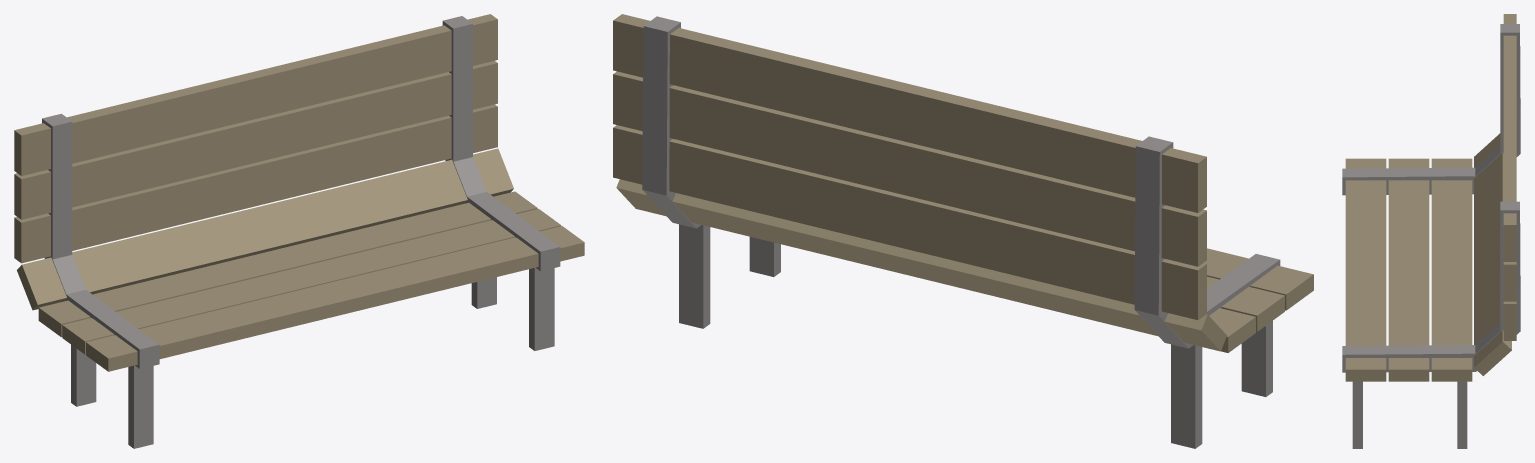
File: parkBench.fbx
The picture shows the model from 3 angles, left to right: view 1: azimuth 30°, elevation 25°; view 2: azimuth 150°, elevation 25°; view 3: azimuth 270°, elevation 25°; orthographic projection. The views are drawn at different scales.
Visible parts, largest first — view 1: chairSeat08, chairSeat04, chairSeat02, chairSeat03, chairSeat07, chairSeat05, chairSeat06, chairSeat013, chairSeat017, chairSeat014, chairSeat011, chairSeat015 (+1 smaller); view 2: chairSeat08, chairSeat02, chairSeat03, chairSeat04, chairSeat013, chairSeat017, chairSeat015, chairSeat012, chairSeat07, chairSeat014, chairSeat06, chairSeat05 (+1 smaller); view 3: chairSeat07, chairSeat06, chairSeat05, chairSeat04, chairSeat013, chairSeat017, chairSeat08, chairSeat011, chairSeat012, chairSeat02, chairSeat03.
Part boxes in pixels (box(x1,y1,x2,y2)): chairSeat08: box(14, 14, 497, 175); chairSeat04: box(17, 148, 513, 310); chairSeat02: box(14, 60, 497, 219); chairSeat03: box(14, 104, 497, 263); chairSeat07: box(86, 226, 584, 371); chairSeat05: box(38, 191, 537, 337); chairSeat06: box(62, 209, 561, 354); chairSeat013: box(42, 113, 159, 368); chairSeat017: box(442, 16, 560, 271); chairSeat014: box(128, 365, 153, 448); chairSeat011: box(529, 267, 554, 350); chairSeat015: box(71, 345, 96, 406); chairSeat08: box(613, 14, 1206, 212); chairSeat02: box(613, 71, 1206, 266); chairSeat03: box(613, 125, 1206, 320); chairSeat04: box(616, 179, 1226, 351); chairSeat013: box(1134, 136, 1280, 348); chairSeat017: box(642, 16, 700, 228); chairSeat015: box(1171, 344, 1202, 448); chairSeat012: box(679, 224, 710, 328); chairSeat07: box(1204, 248, 1313, 310); chairSeat014: box(1241, 321, 1272, 396); chairSeat06: box(1207, 276, 1284, 331); chairSeat05: box(1209, 308, 1255, 352); chairSeat07: box(1345, 158, 1386, 381); chairSeat06: box(1388, 158, 1429, 381); chairSeat05: box(1431, 158, 1472, 381); chairSeat04: box(1474, 133, 1511, 375); chairSeat013: box(1342, 24, 1520, 195); chairSeat017: box(1342, 201, 1520, 372); chairSeat08: box(1503, 14, 1516, 261); chairSeat011: box(1352, 381, 1362, 448); chairSeat012: box(1457, 381, 1467, 448); chairSeat02: box(1503, 262, 1516, 301); chairSeat03: box(1503, 301, 1516, 340).
Size of the model in its own units: 1.12 by 0.5923 by 0.4016.
